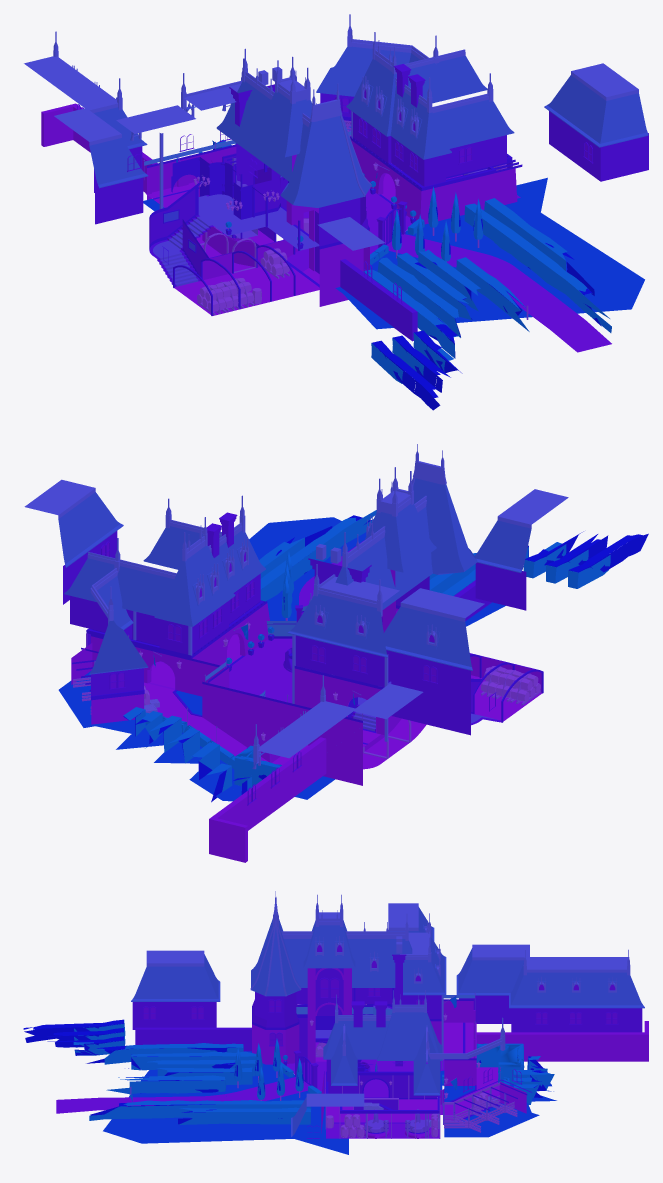
The model's file is vineyard.gltf.
3 views of the same model, one above another, from view 1: azimuth 30°, elevation 25°; view 2: azimuth 150°, elevation 25°; view 3: azimuth 270°, elevation 25° (orthographic). The views are drawn at different scales.
Size of the model in its own units: 83.24 by 37.56 by 119.
